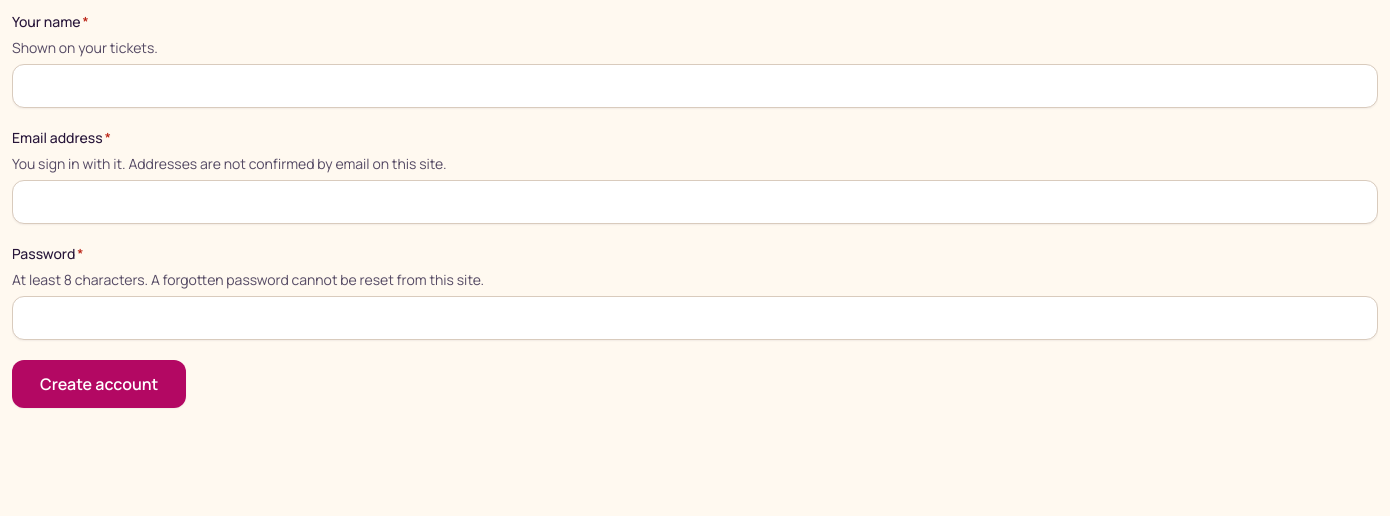
Scenario: RegisterForm › says how long to wait when sign-ups are being throttled, and names no endpoint
The width and height of the screenshot is (1390, 516).
Type "Meera Iyer" into the field labelled "Your name*" at (695, 86), box [12,64,1378,108]
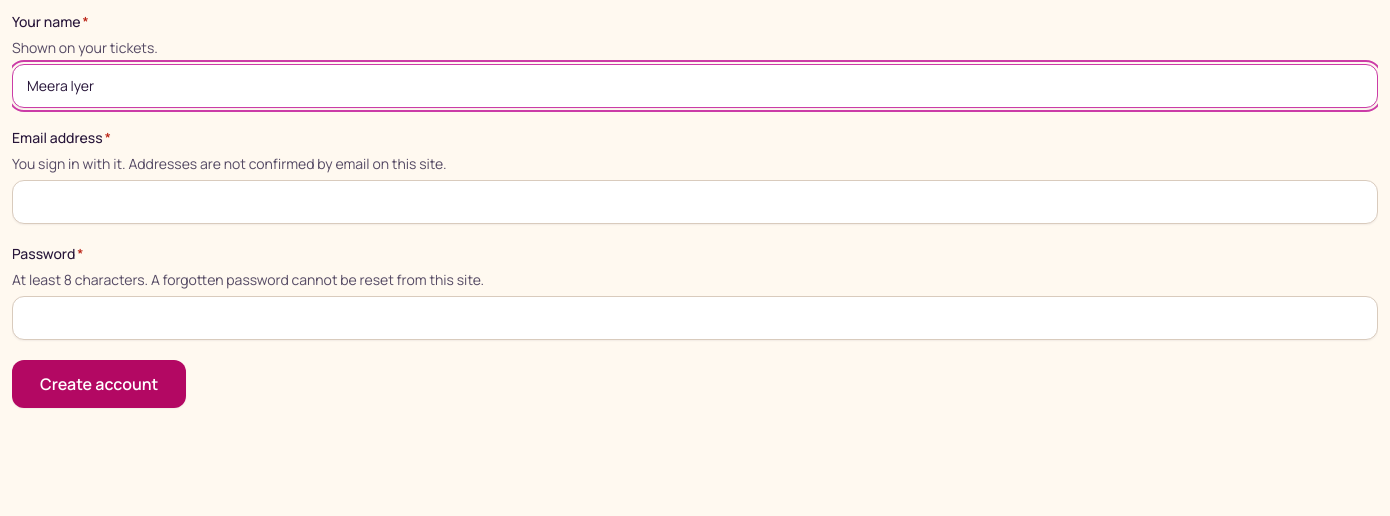
Type "meera@example.test" into the field labelled "Email address*" at (695, 202), box [12,180,1378,224]
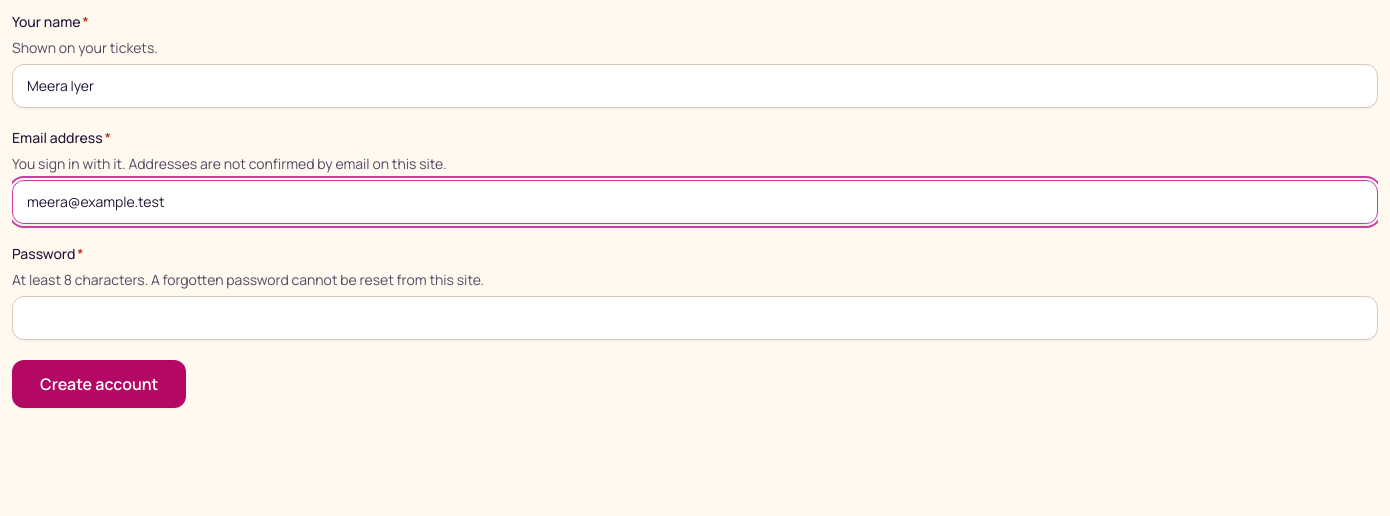
Type "correct horse" into the password field labelled "Password*" at (695, 318), box [12,296,1378,340]
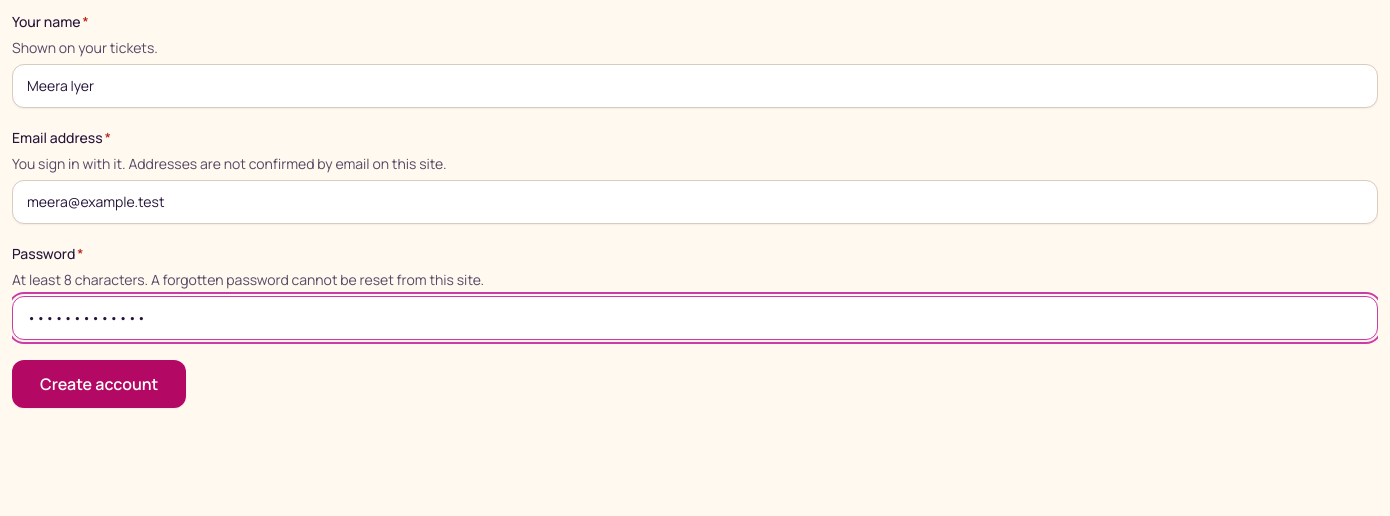
Click the button "Create account" at (99, 384), box [12,360,186,408]
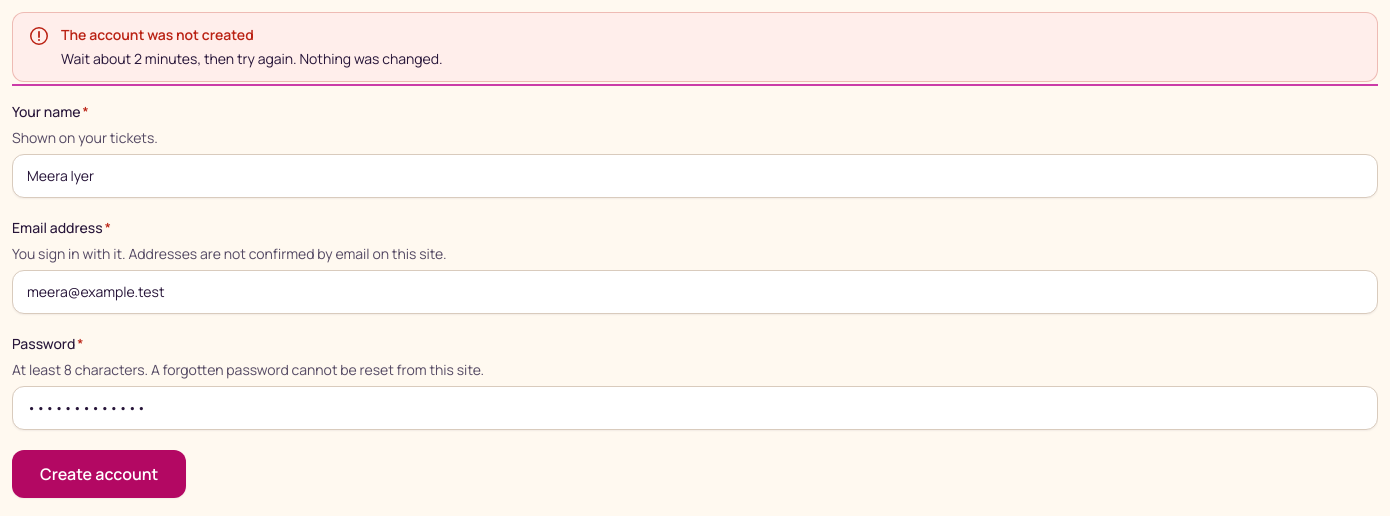
Check: the message shows "2 minutes", box [61,49,443,68]
